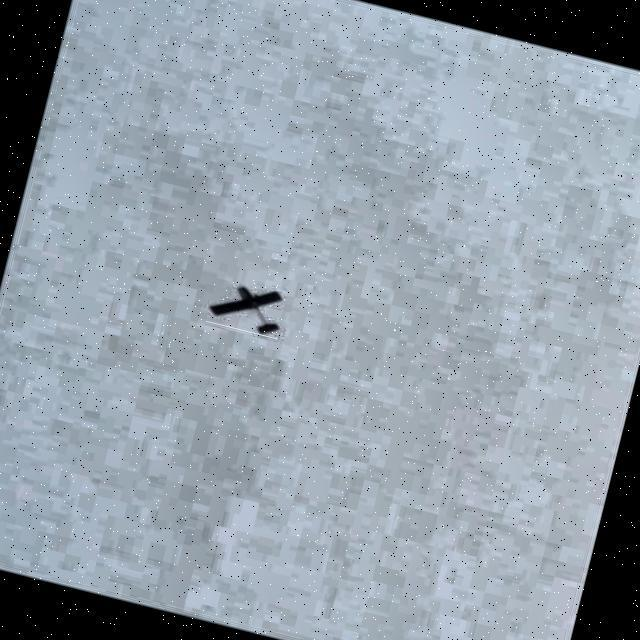iha: (229, 301, 266, 307)
